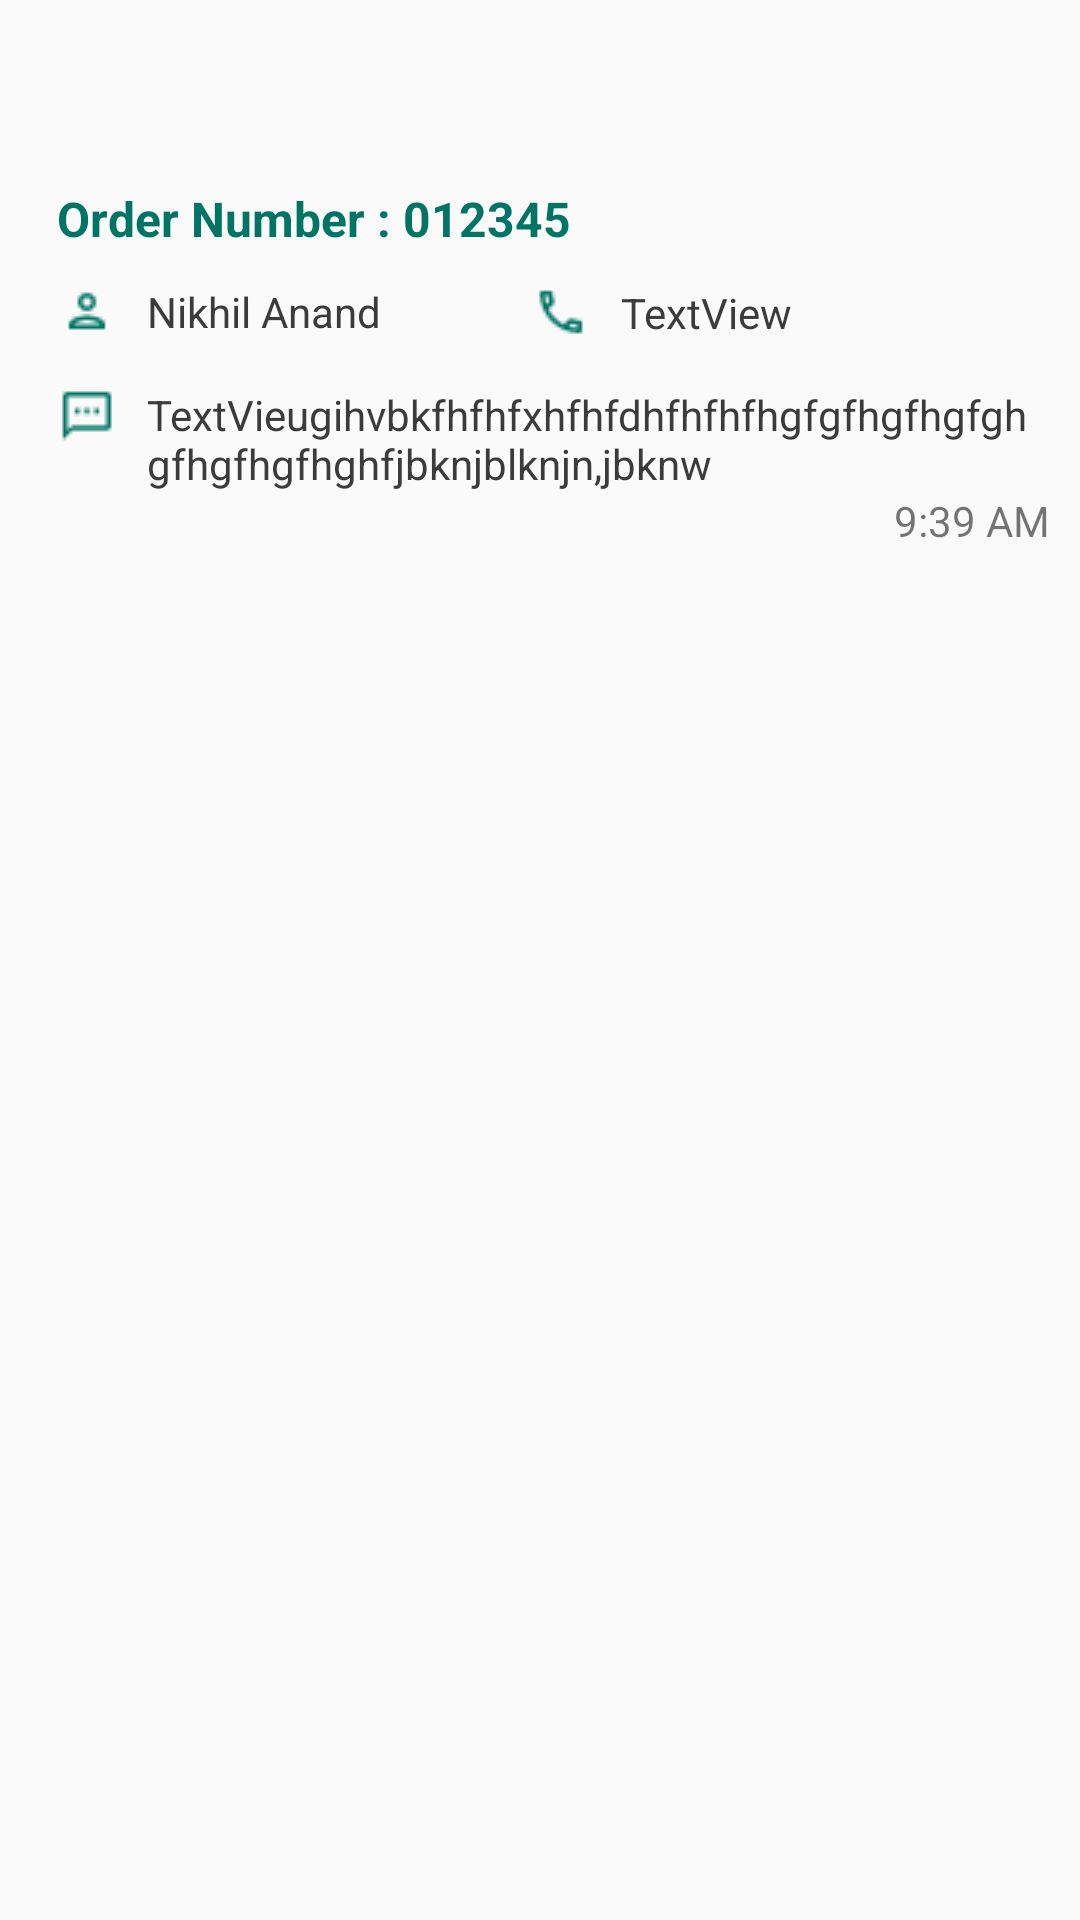

Point at icon controls on the screen. Image size 1080 × 1920, points as (x,y).
person sm: (87,311)
phone: (561,312)
textsms: (87,416)
